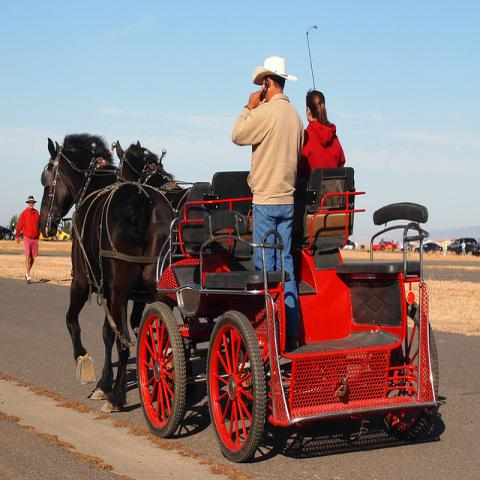car: (448, 236, 479, 255), (39, 231, 70, 241), (414, 243, 442, 254), (371, 240, 397, 251)
